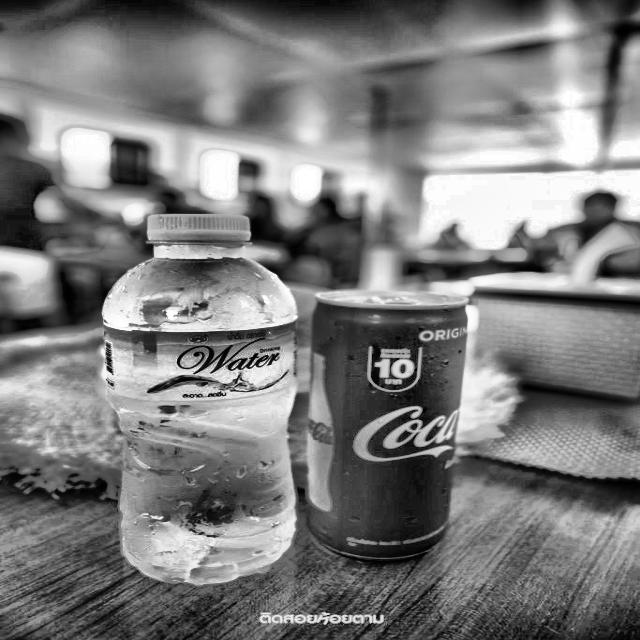waterbottle: (101, 214, 296, 587)
